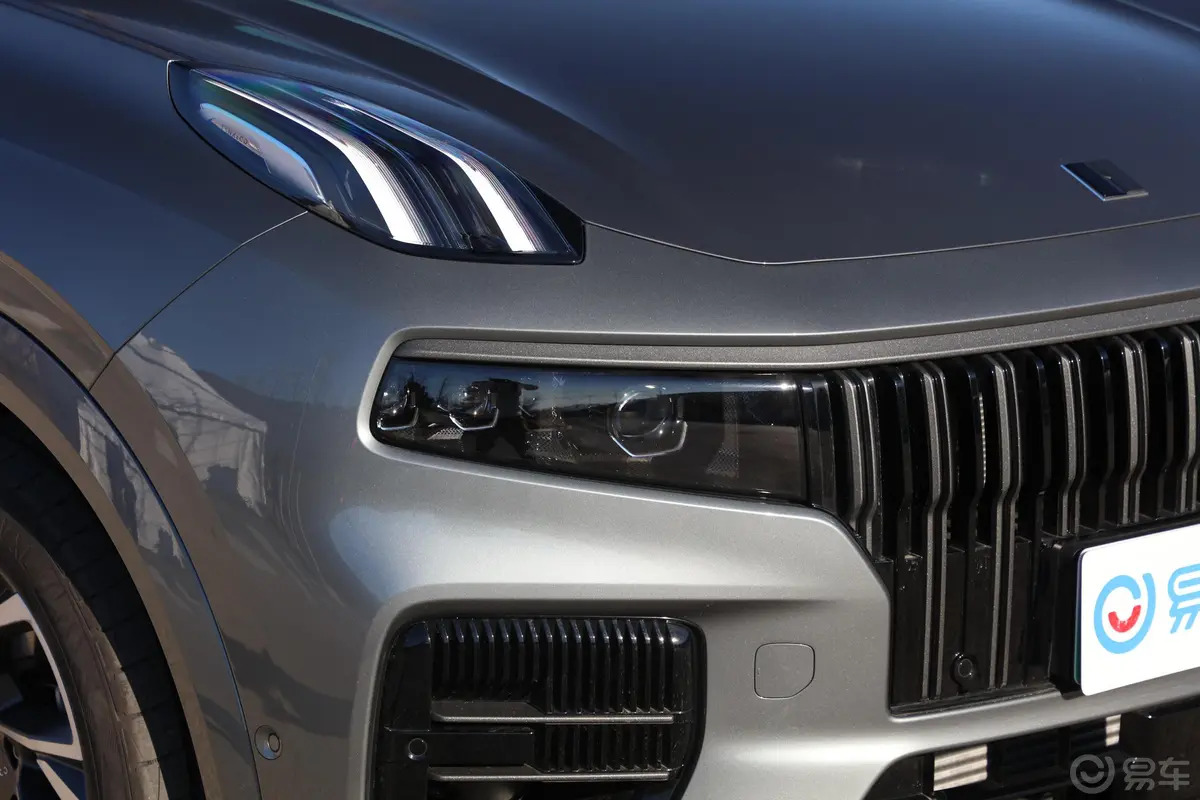LINK&CO: (1062, 161, 1147, 201)
